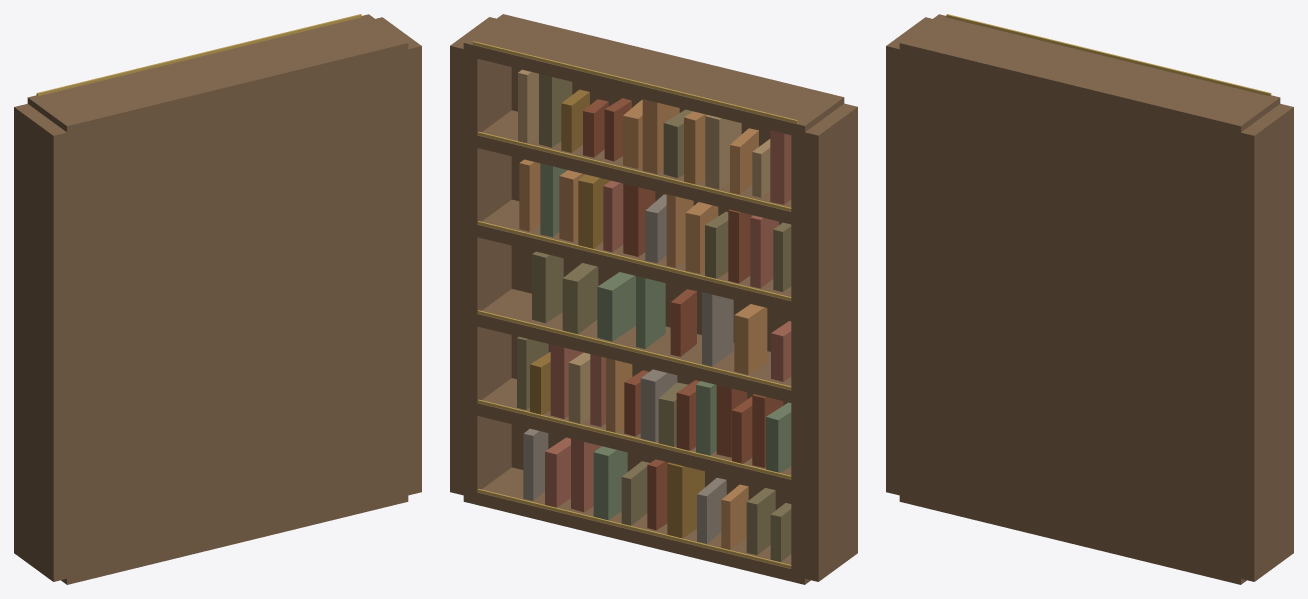
3 renders of one model, left to right at view 1: azimuth 30°, elevation 25°; view 2: azimuth 150°, elevation 25°; view 3: azimuth 330°, elevation 25°, orthographic.
Visible parts, largest first — view 1: object 3, Cube, Cube.013, Cube.001, Cube.003, Cube.007, Cube.005, Cube.011, Cube.009, Cube.014; view 2: object 16, Cube, Cube.001, Cube.013, Cube.007, object 3, Cube.003, Cube.009, Cube.011, Cube.005, Cube.014, Cube.012 (+4 smaller); view 3: object 3, Cube.001, Cube.013, Cube, Cube.007, Cube.003, Cube.011, Cube.009, Cube.014, Cube.005.
Boxes of the visible parts, x1,y1,x2,y2 form: object 3: (67,52,394,568); Cube: (14,103,80,581); Cube.013: (27,14,408,133); Cube.001: (376,17,421,498); Cube.003: (61,491,408,584); Cube.007: (67,315,394,406); Cube.005: (67,404,394,495); Cube.011: (67,140,394,227); Cube.009: (67,229,393,316); Cube.014: (36,14,361,96); object 16: (517,69,791,561); Cube: (791,103,857,581); Cube.001: (450,17,511,498); Cube.013: (463,14,844,138); Cube.007: (463,289,804,405); object 3: (511,67,791,509); Cube.003: (463,467,810,584); Cube.009: (464,199,804,316); Cube.011: (463,110,804,227); Cube.005: (463,378,791,492); Cube.014: (472,41,797,123); Cube.012: (477,132,791,211); object 3: (899,49,1240,578); Cube.001: (1227,103,1293,581); Cube.013: (899,14,1280,137); Cube: (886,17,931,498); Cube.007: (899,311,1240,406); Cube.003: (899,489,1246,584); Cube.011: (899,133,1240,227); Cube.009: (899,221,1240,316); Cube.014: (946,14,1271,96); Cube.005: (901,402,1240,493).
Size of the model in its own units: 2.16 by 2.59 by 0.4001.
